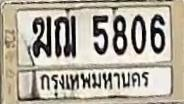0: (130, 14, 145, 53)
5: (92, 14, 107, 54)
6: (150, 13, 164, 53)
8: (112, 14, 126, 54)
A06: (31, 16, 50, 56)
A12: (54, 15, 76, 57)
BKK: (36, 69, 155, 97)
